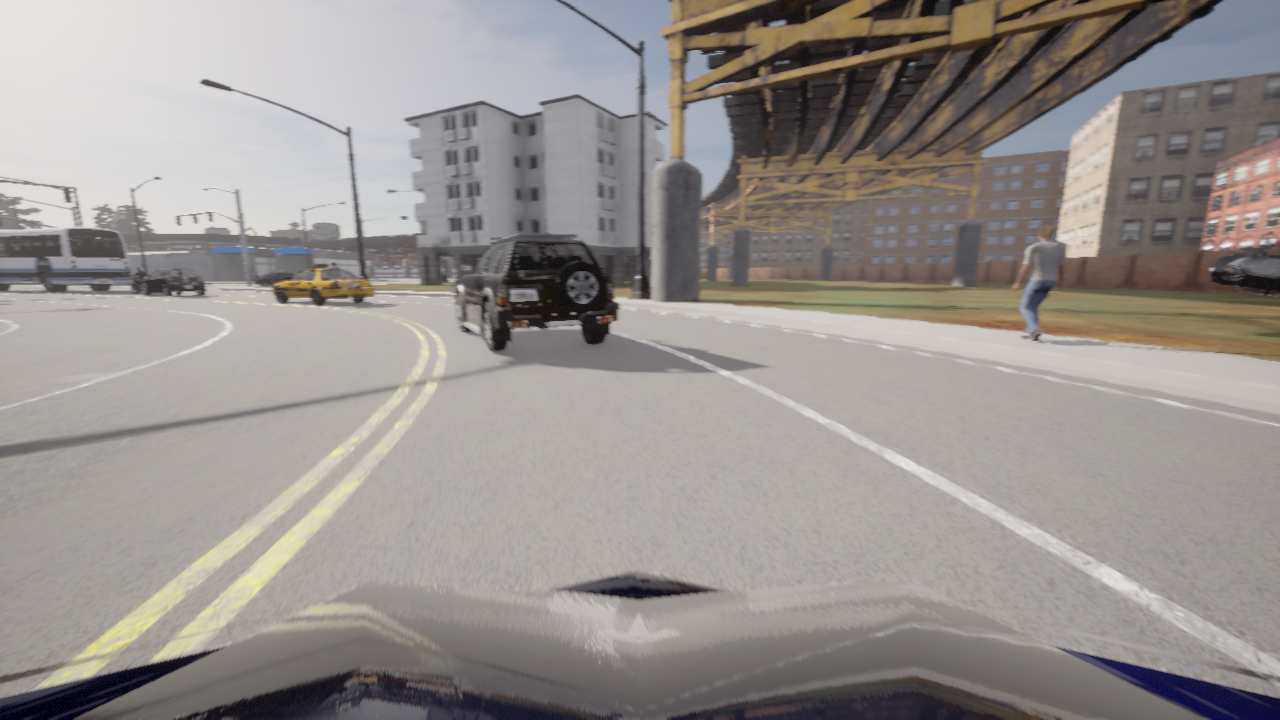cyclist: (0, 569, 1279, 719), (452, 233, 618, 351), (0, 227, 132, 291), (272, 265, 373, 304), (1209, 248, 1279, 295), (141, 268, 205, 295), (253, 271, 294, 285), (131, 275, 142, 293)
pedestrian: (1013, 224, 1065, 341), (330, 262, 339, 268)
